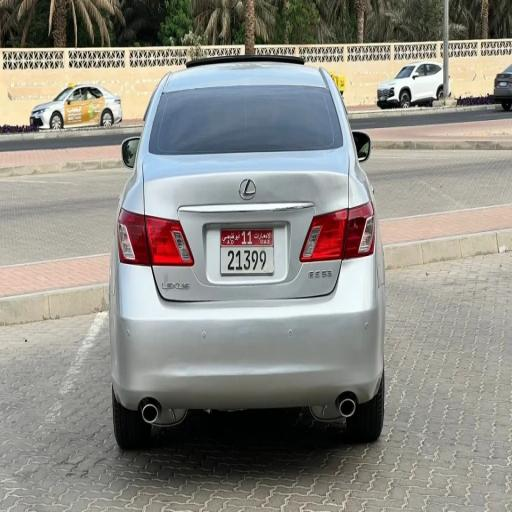license-plates: (220, 229, 274, 274)
